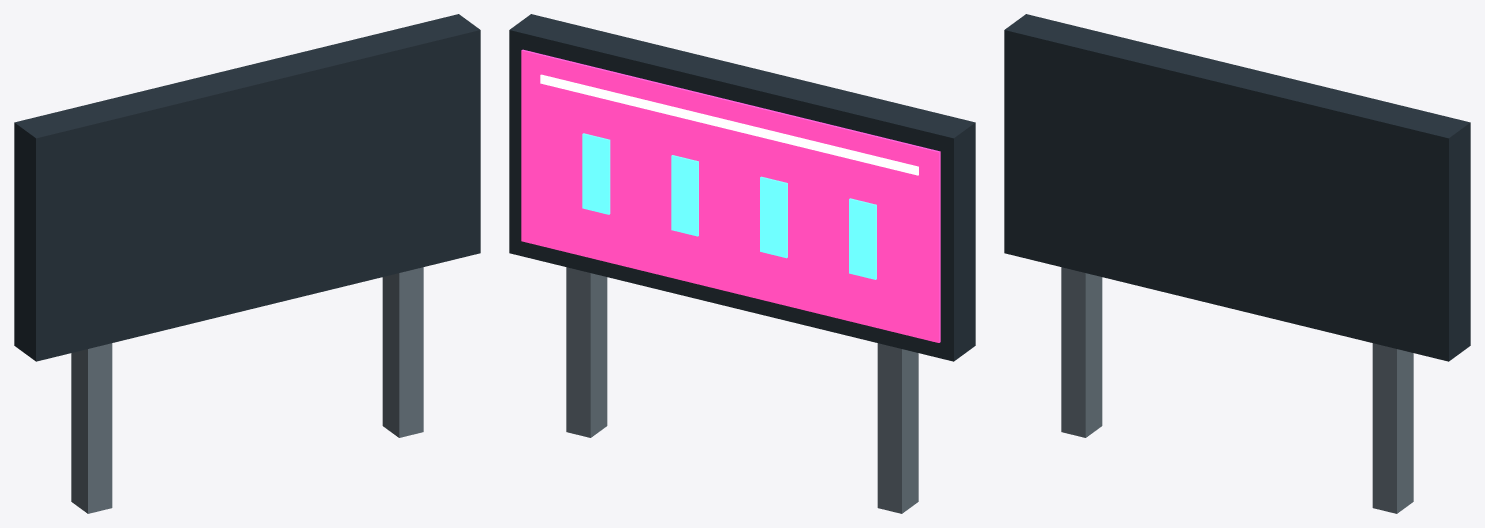
Rendered from vrx_city_advert_a_LOD1.fbx.
3 renders of one model, left to right at view 1: azimuth 30°, elevation 25°; view 2: azimuth 150°, elevation 25°; view 3: azimuth 330°, elevation 25°, orthographic.
Parts seen in each view (by area): view 1: vrx_city_advert_a_LOD1; view 2: vrx_city_advert_a_LOD1; view 3: vrx_city_advert_a_LOD1.
Boxes of the visible parts, x1,y1,x2,y2 form: vrx_city_advert_a_LOD1: [14, 14, 480, 513]; vrx_city_advert_a_LOD1: [509, 14, 975, 513]; vrx_city_advert_a_LOD1: [1004, 14, 1470, 513].
Size of the model in its own units: 10 by 8.4 by 0.95.
